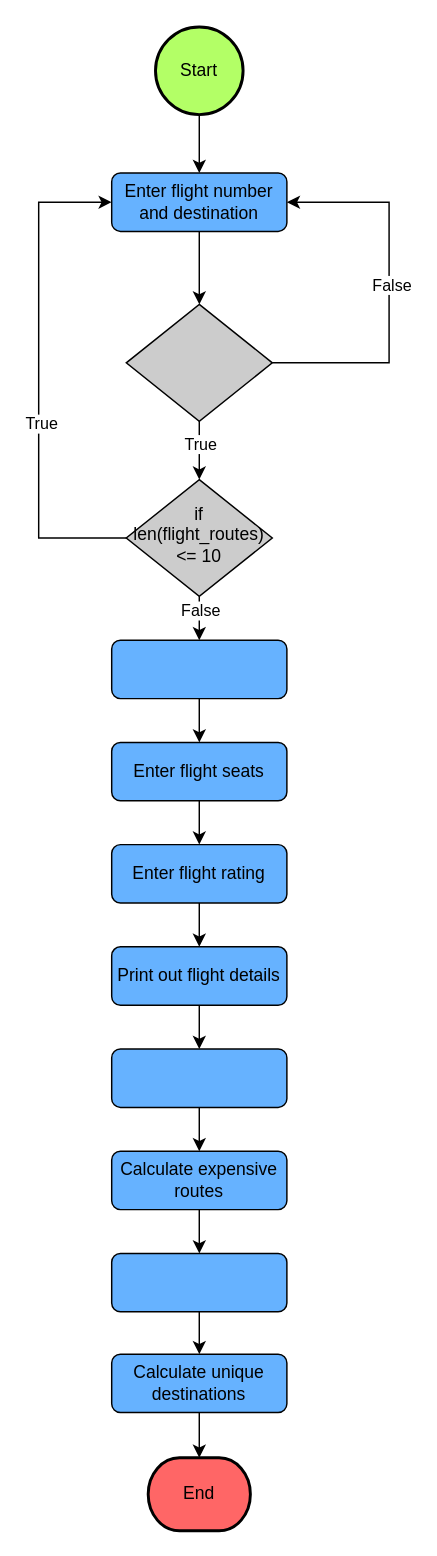
Some shapes in this 437 by 1556 pixel diagram are drawn without their labels. Each missing label, with the centre of its shape:
Calculate few seats: point (198, 1282)
Calculate popular routes: point (198, 1077)
Enter flight price: point (198, 669)
if input == 'quit': point (198, 362)
